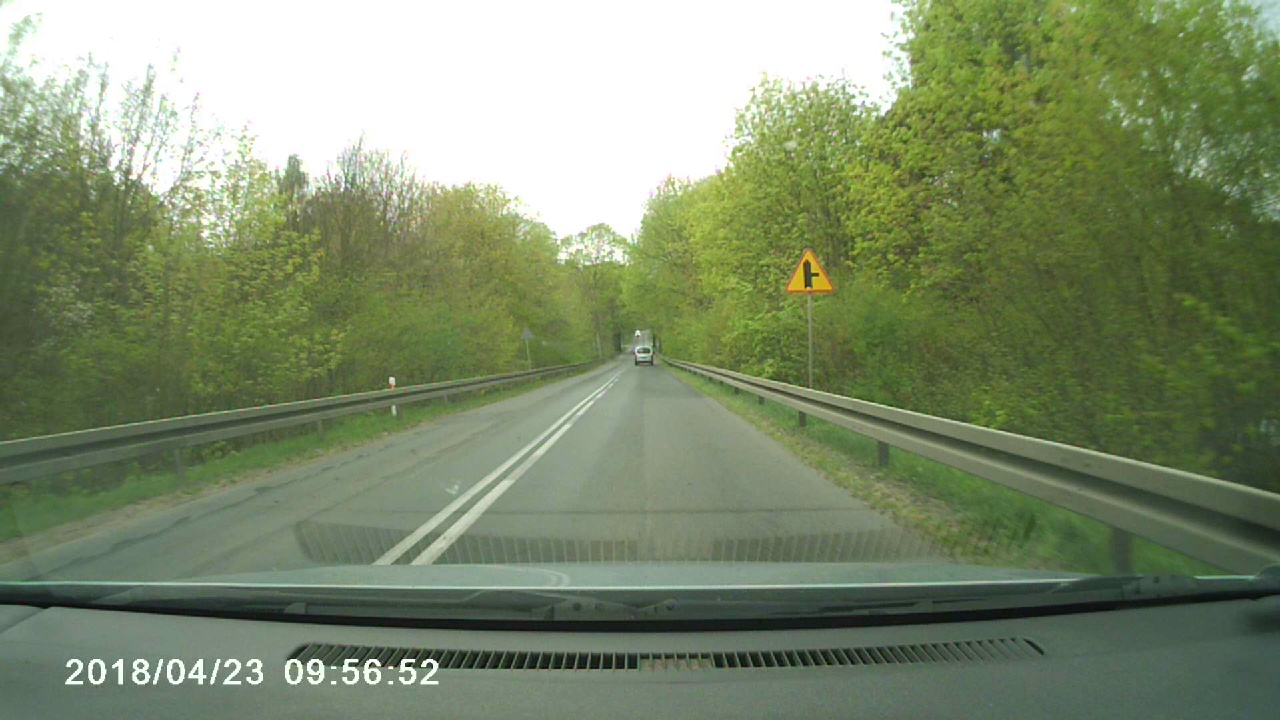A6b: (787, 249, 834, 291)
